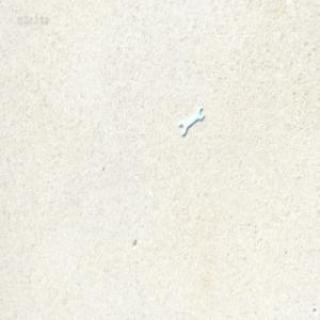Wrenchtrack_idkeyframe: (169, 97, 210, 140)
